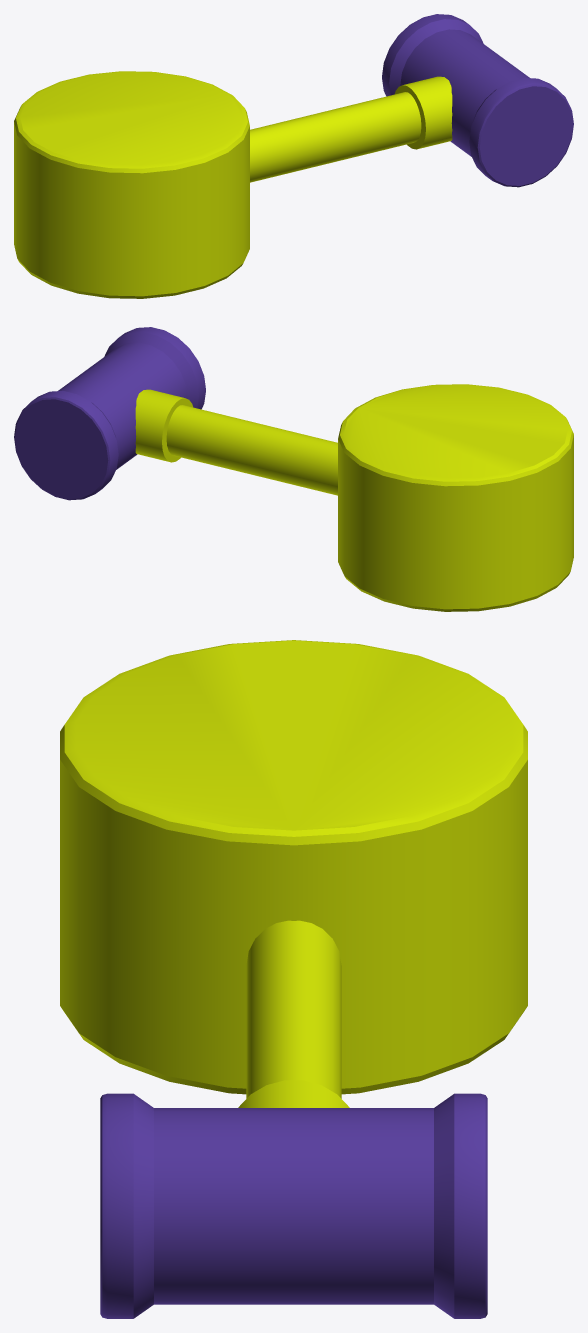
The model's file is piece  19.fbx.
3 renders of one model, top to bottom at view 1: azimuth 30°, elevation 25°; view 2: azimuth 150°, elevation 25°; view 3: azimuth 270°, elevation 25°, orthographic. The views are drawn at different scales.
Parts seen in each view (by area): view 1: Cylinder; view 2: Cylinder; view 3: Cylinder.
Boxes of the visible parts, x1,y1,x2,y2 form: Cylinder: (14, 14, 573, 298); Cylinder: (14, 327, 573, 611); Cylinder: (60, 640, 527, 1318).
Size of the model in its own units: 77.05 by 19.72 by 31.4.
